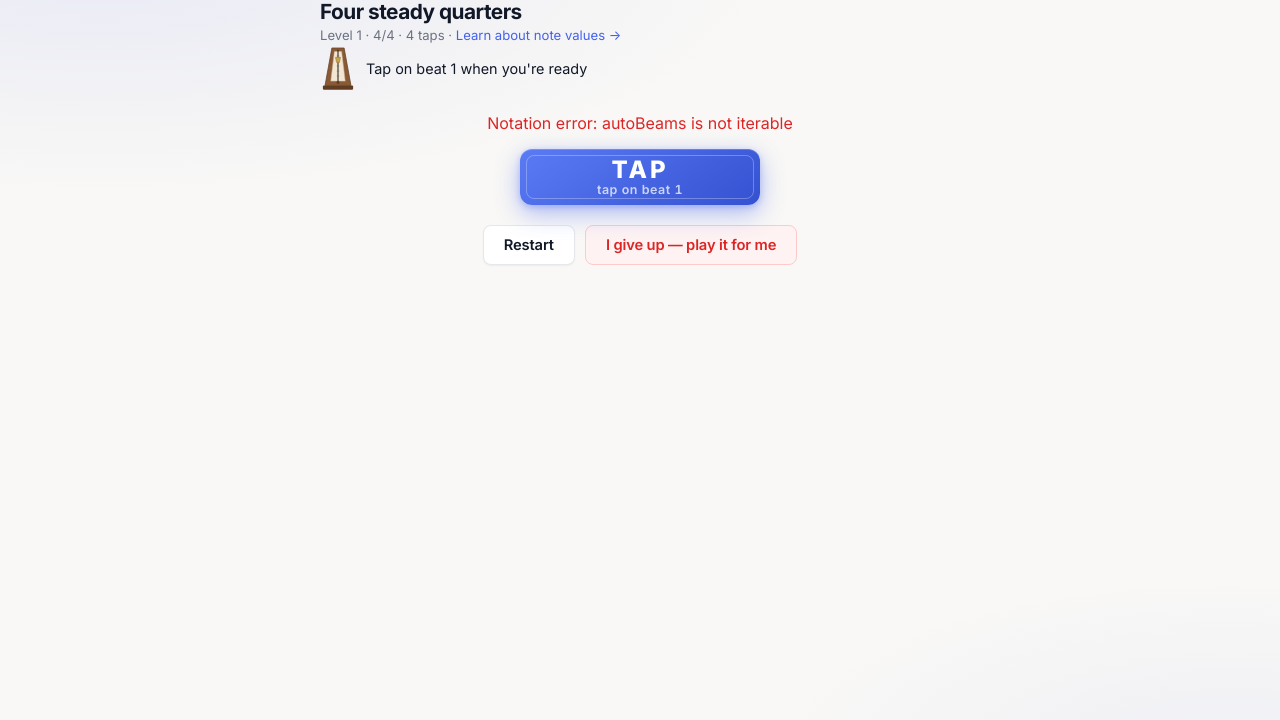
Scenario: ExercisePlayer › submits a gave_up attempt after the give-up button is clicked
This screenshot has width=1280, height=720.
Expected: the heading "Four steady quarters" is shown, [320,0,522,24]
Click the button "I give up — play it for me".
click(691, 245)  # box [585,225,797,265]
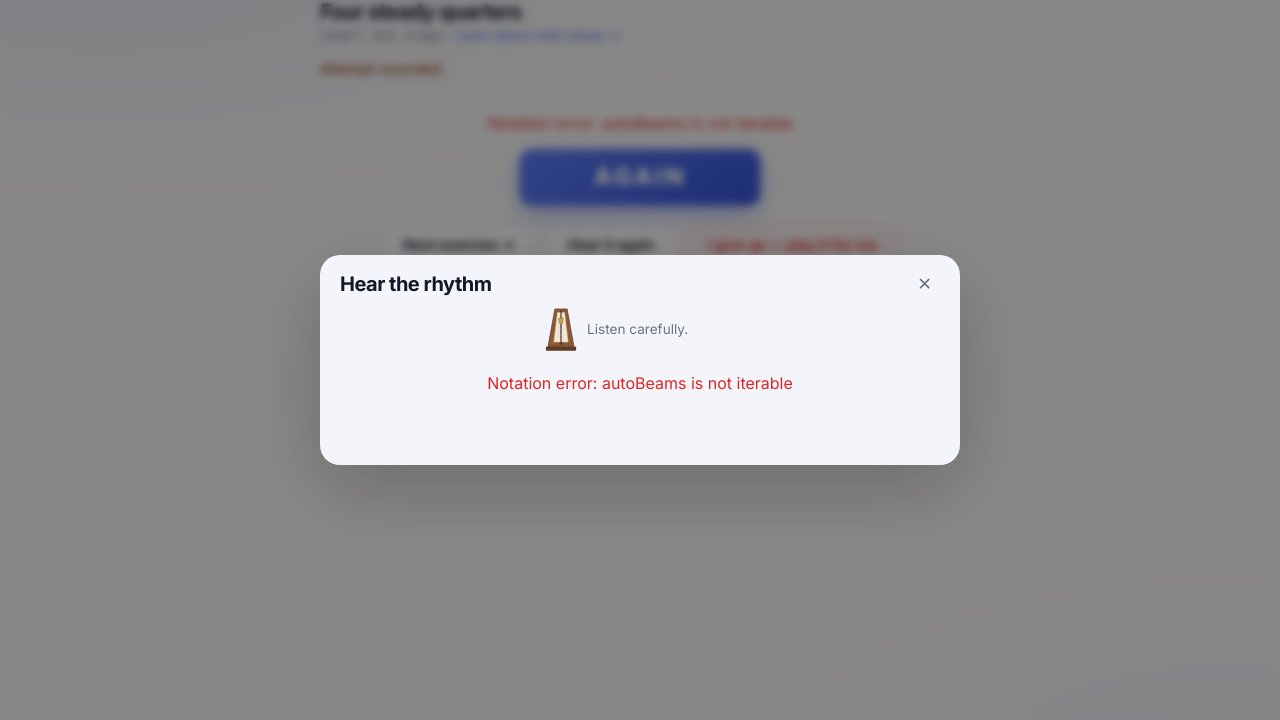
Now the heading "Hear the rhythm" is shown, box [340,272,492,296]
